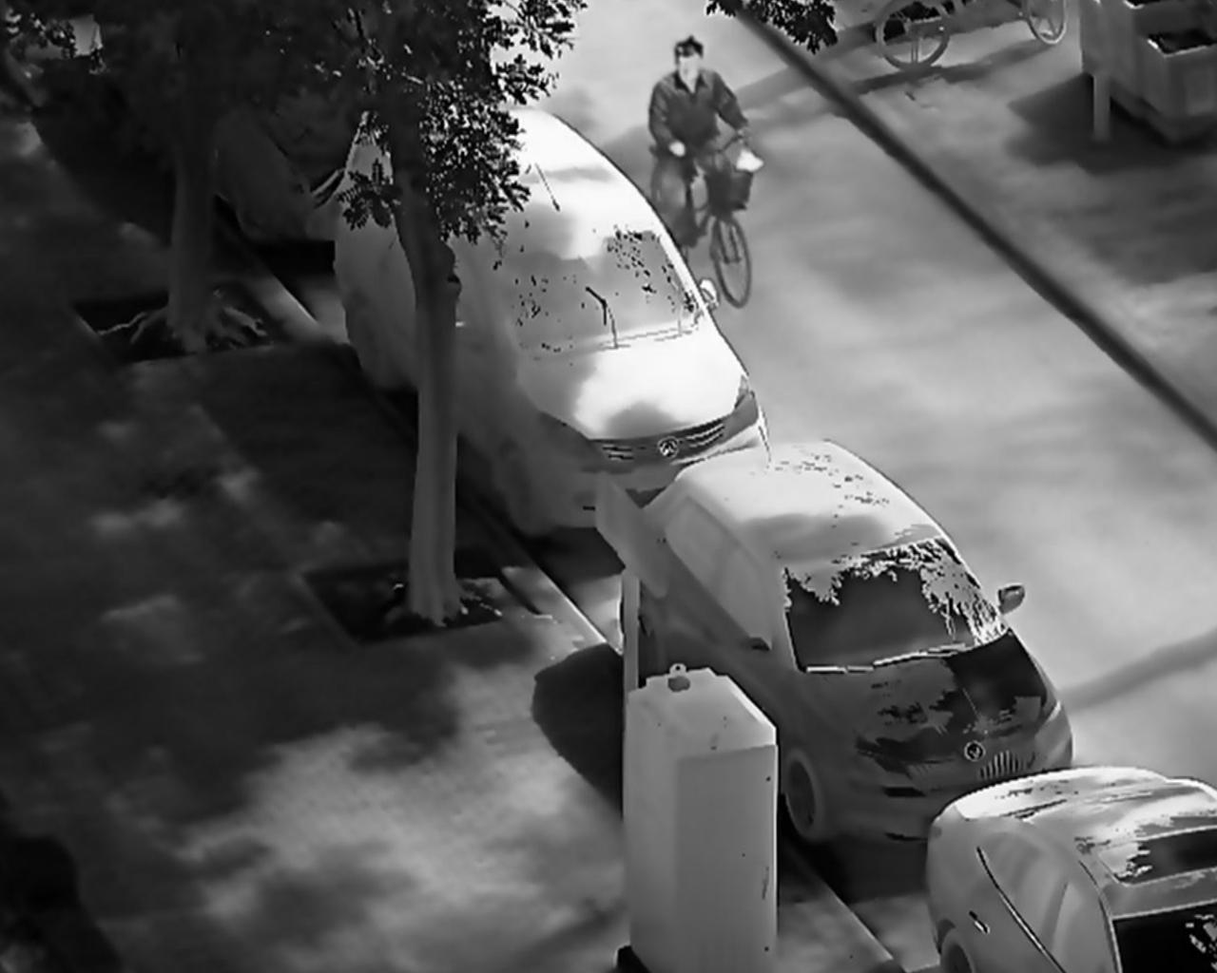person: (647, 34, 755, 261)
